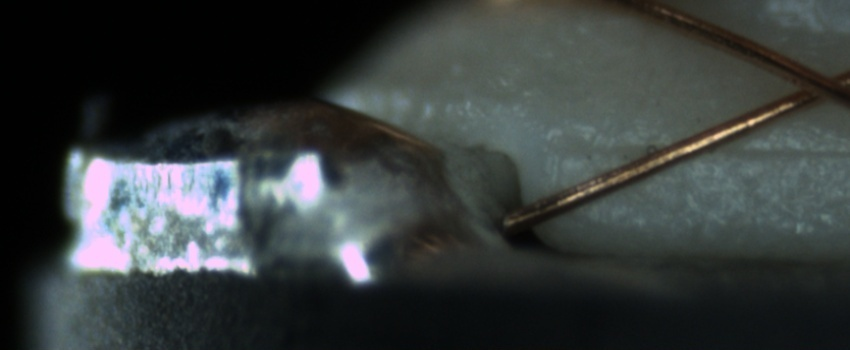CL: (768, 54, 849, 114)
DL: (553, 121, 850, 180)
